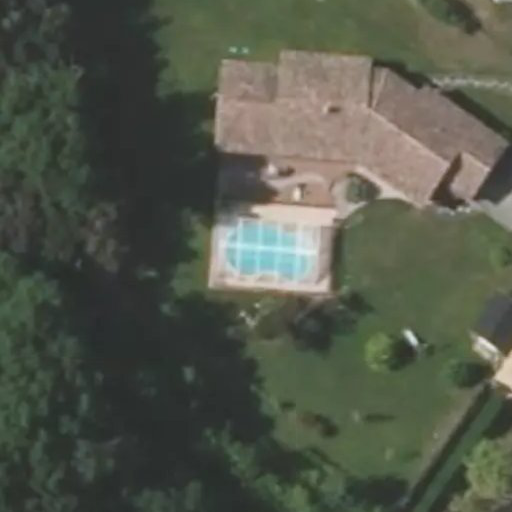pool: (211, 218, 300, 262)
